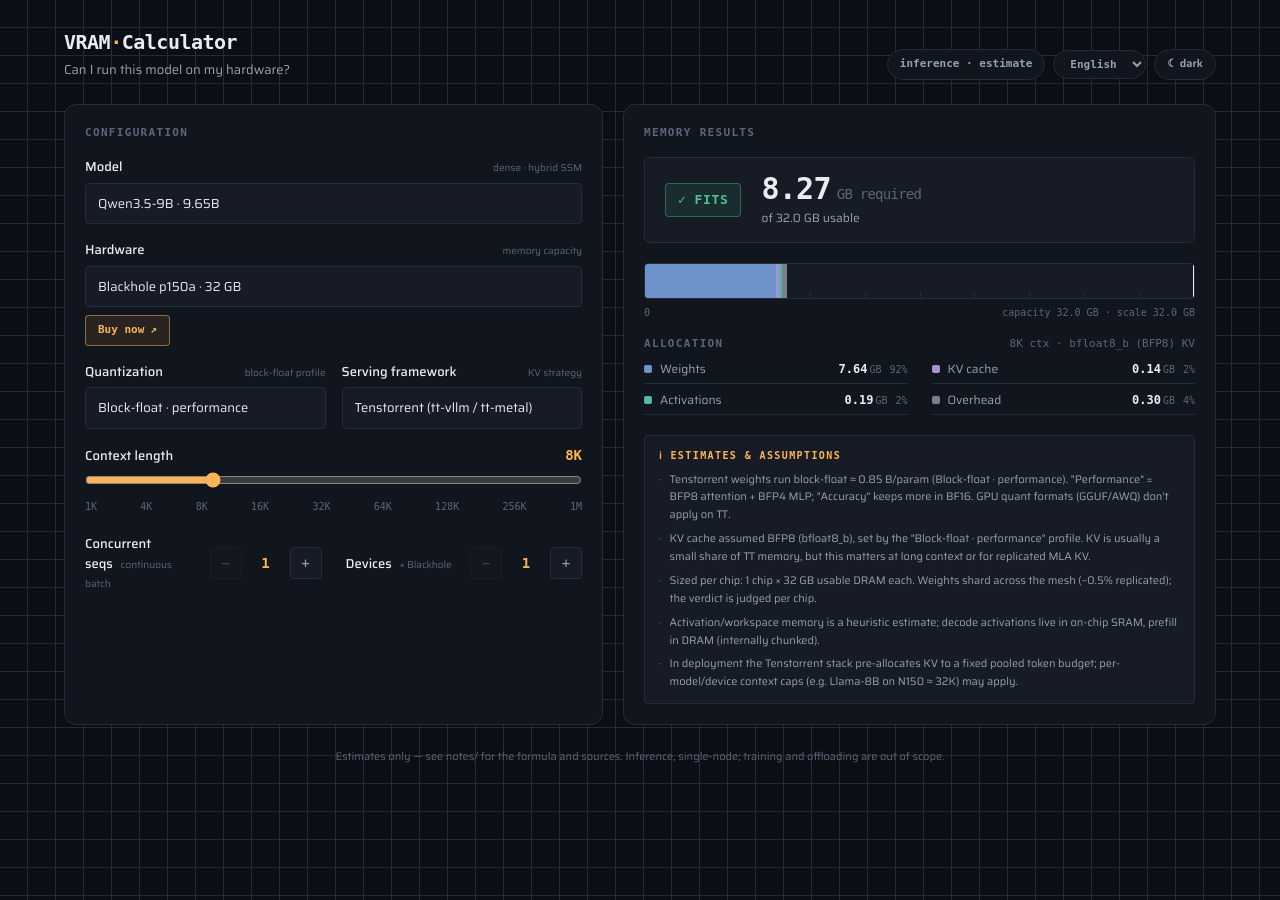
Test: App › offers suggestion chips when the config will not fit, and applying one changes the verdict
Step 1. Select "R1-Distill-Llama-70B · 70.6B" in the dropdown labelled "Model" → x=334, y=203, box [85, 182, 582, 224]
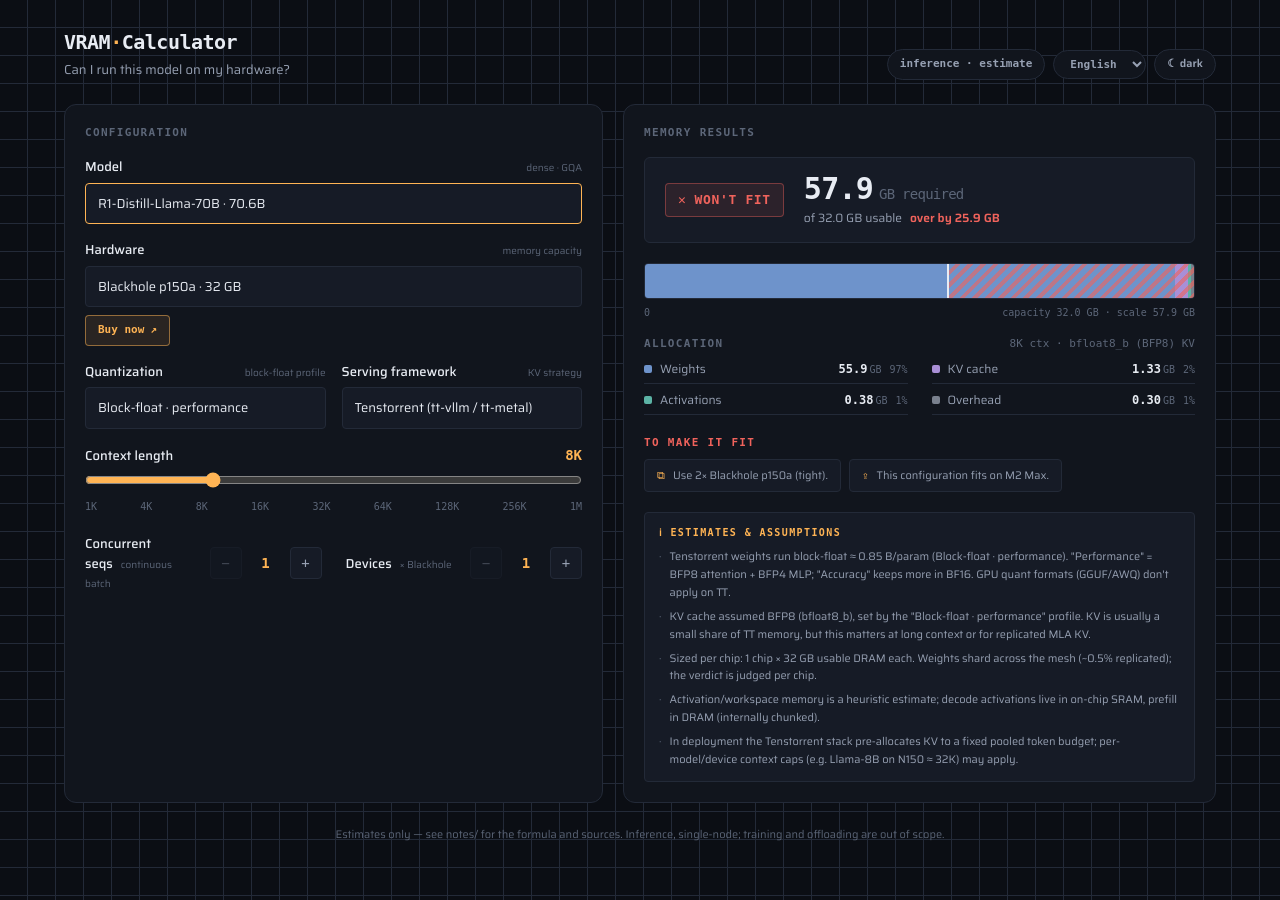
Expected: the message shows "WON'T FIT", [694, 192, 771, 207]
Expected: the button "⧉ Use 2× Blackhole p150a (tight)." is shown
Step 2. Click the button "⧉ Use 2× Blackhole p150a (tight)." → x=742, y=476, box [644, 459, 841, 492]
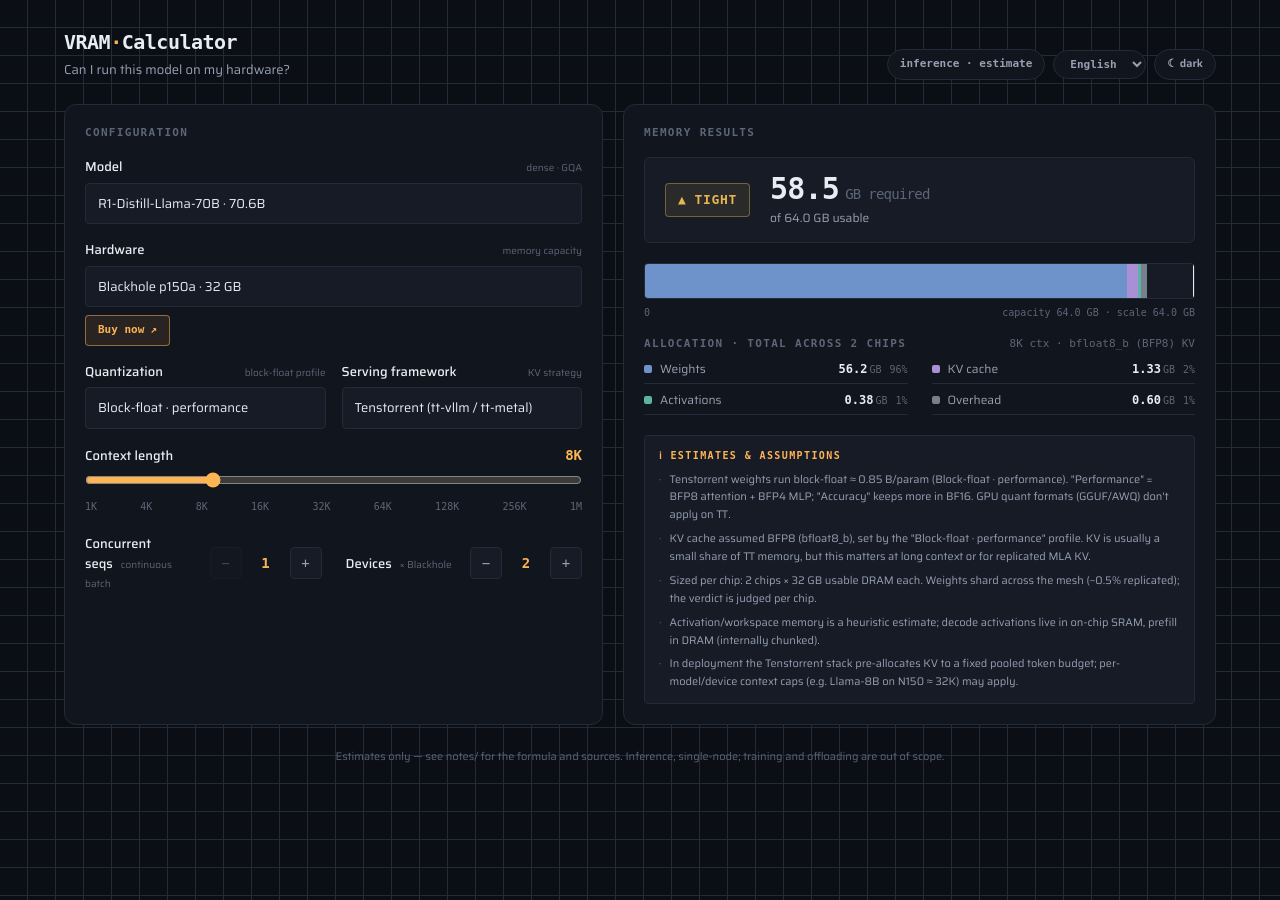
Expected: the message "✕ WON'T FIT" no longer shows "WON'T FIT"
